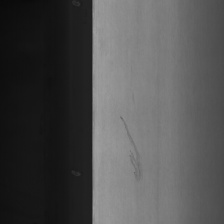water_spot: (117, 111, 149, 184)
